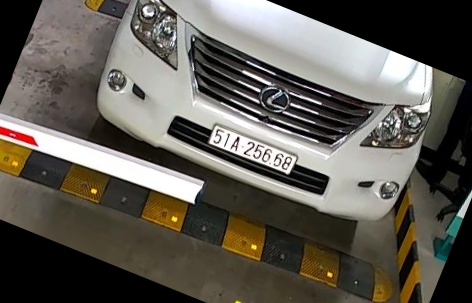plate: (205, 128, 306, 186)
